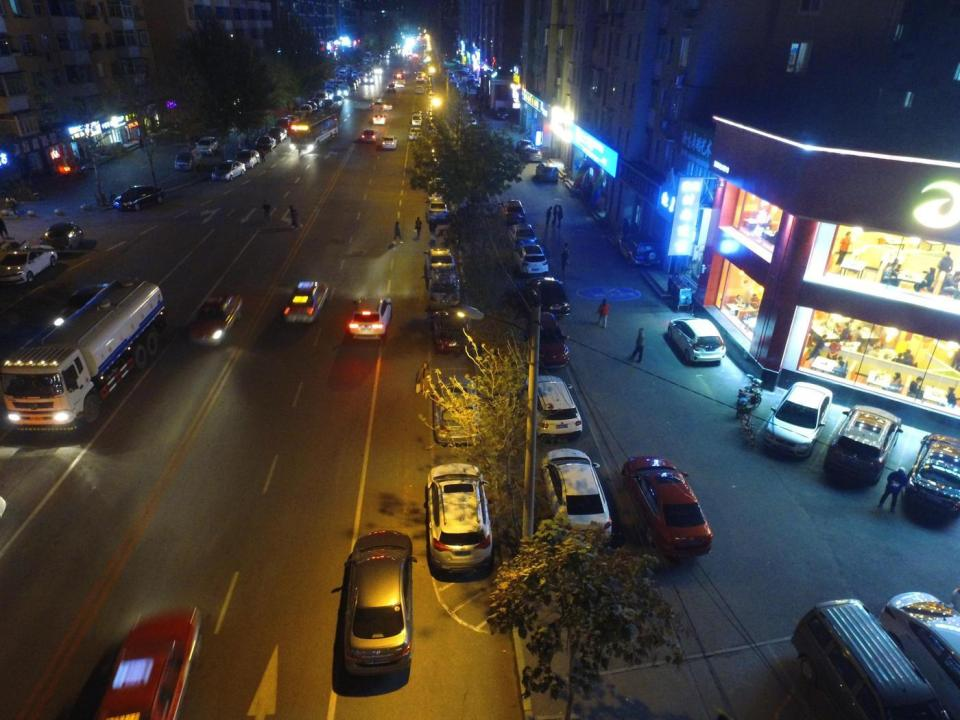bus: (288, 114, 339, 150), (393, 70, 404, 87)
car: (94, 607, 201, 720), (339, 532, 417, 678), (883, 592, 958, 720), (622, 457, 714, 558), (759, 379, 833, 459), (905, 431, 960, 518), (187, 293, 243, 346), (666, 317, 727, 363), (1, 243, 59, 284), (283, 280, 329, 323), (526, 276, 570, 316), (112, 185, 164, 211), (41, 222, 84, 253), (174, 145, 203, 172), (508, 224, 538, 248), (211, 160, 247, 180), (497, 199, 526, 223), (235, 148, 259, 168), (196, 136, 220, 155), (254, 134, 276, 150), (269, 126, 288, 141), (369, 101, 394, 112), (381, 134, 397, 150), (361, 129, 378, 143), (496, 106, 509, 121), (517, 140, 533, 152), (408, 127, 422, 140), (299, 104, 312, 117), (373, 114, 386, 125), (460, 98, 471, 110), (388, 84, 396, 92), (416, 86, 423, 94), (417, 75, 424, 83), (352, 70, 358, 76)
truck: (0, 278, 167, 435), (338, 85, 350, 97)
van: (790, 600, 950, 720), (426, 461, 494, 578), (542, 448, 613, 548), (824, 404, 903, 484), (525, 374, 583, 442), (433, 376, 480, 447), (525, 312, 570, 369), (348, 298, 392, 340), (432, 308, 467, 354), (614, 233, 661, 266), (512, 244, 549, 277), (428, 273, 460, 310), (425, 248, 456, 279), (535, 162, 558, 182), (525, 145, 543, 162), (275, 117, 292, 133), (315, 90, 328, 103), (412, 112, 422, 125)
